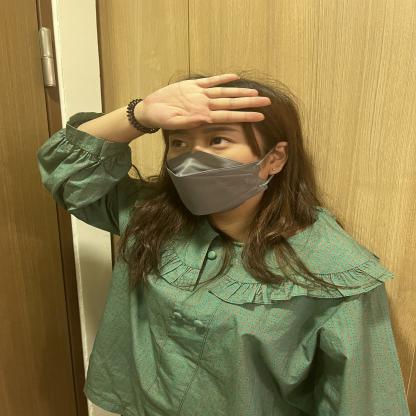Sick: (9, 49, 415, 217)
